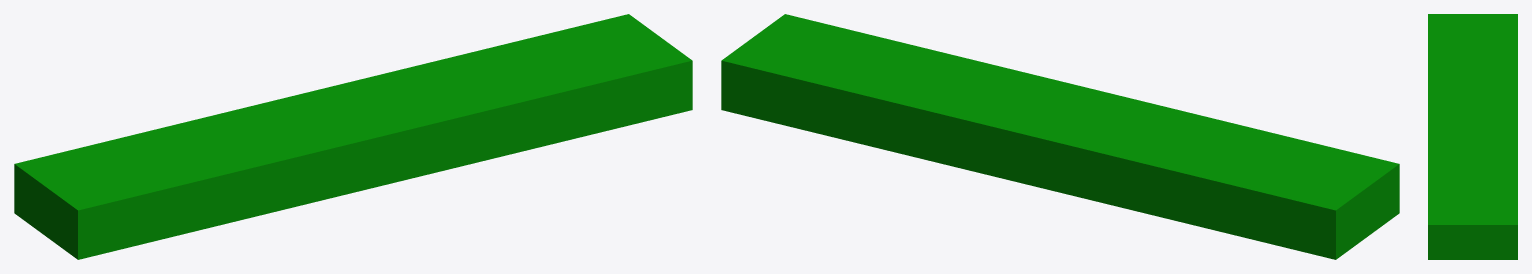
File: beam.obj
3 views of the same model, side by side, from view 1: azimuth 30°, elevation 25°; view 2: azimuth 150°, elevation 25°; view 3: azimuth 270°, elevation 25° (orthographic). The views are drawn at different scales.
Visible parts, largest first — view 1: Default; view 2: Default; view 3: Default.
Part boxes in pixels (left/top/right/bottom): Default: left=14, top=14, right=692, bottom=259; Default: left=721, top=14, right=1399, bottom=259; Default: left=1428, top=14, right=1517, bottom=259.
Bounding box in the file's own units: 24.96 × 1.92 × 4.48.
